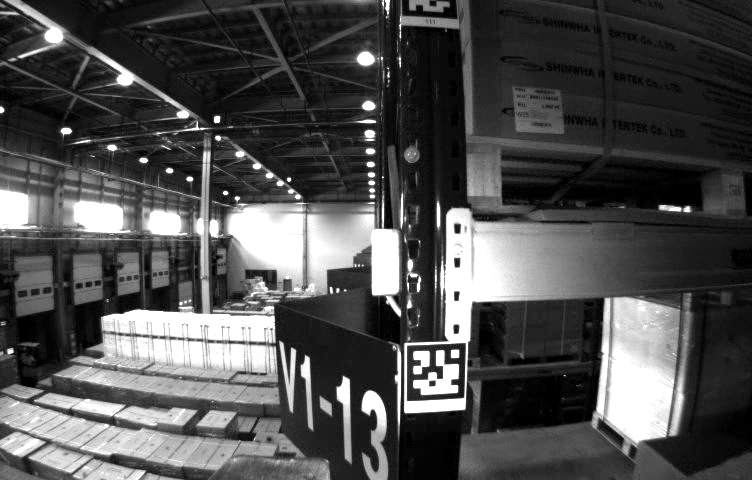True Barcode: (512, 86, 566, 134)
